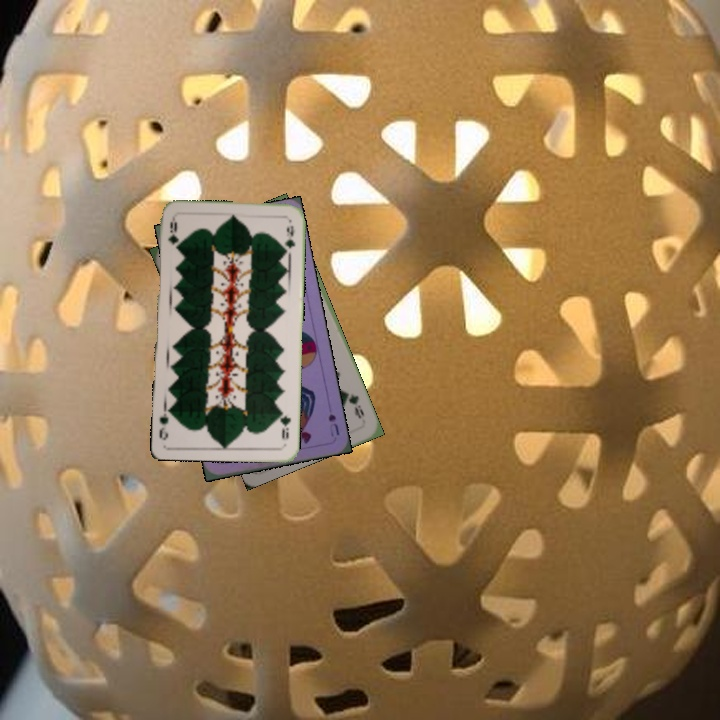G9: (342, 388, 367, 421), (276, 406, 293, 442), (164, 214, 180, 247)
SU: (324, 409, 342, 439)
